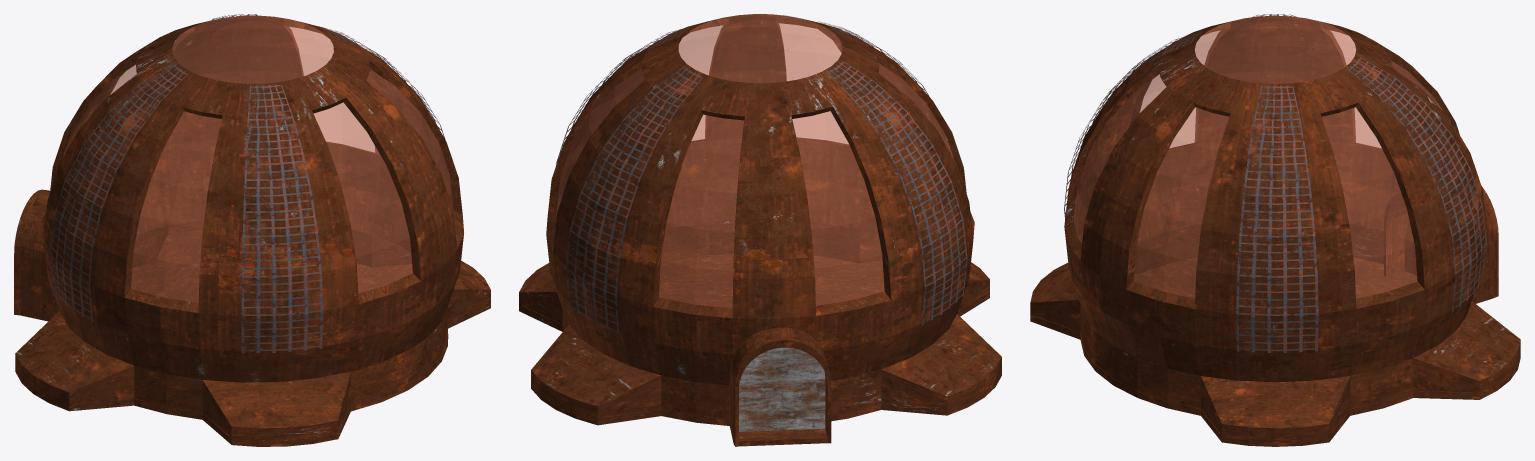
File: New_Erholungscenter.gltf
The picture shows the model from 3 angles, left to right: view 1: azimuth 30°, elevation 25°; view 2: azimuth 150°, elevation 25°; view 3: azimuth 270°, elevation 25°; orthographic projection.
Parts seen in each view (by area): view 1: Sphere, Sphere.001; view 2: Sphere, Sphere.001; view 3: Sphere, Sphere.001.
Part boxes in pixels (x1,y1,x2,y2): Sphere: (14, 15, 490, 446); Sphere.001: (49, 14, 445, 353); Sphere: (519, 14, 1001, 446); Sphere.001: (556, 21, 967, 334); Sphere: (1030, 15, 1520, 446); Sphere.001: (1064, 14, 1486, 352).
Bounding box in the file's own units: 11.54 × 7.64 × 11.15.
4 materials, 3 textured.
